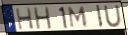1: (58, 6, 69, 30)
H: (33, 6, 54, 30), (14, 7, 35, 31)
I: (95, 4, 105, 29)
M: (68, 6, 89, 29)
U: (103, 4, 124, 28)
